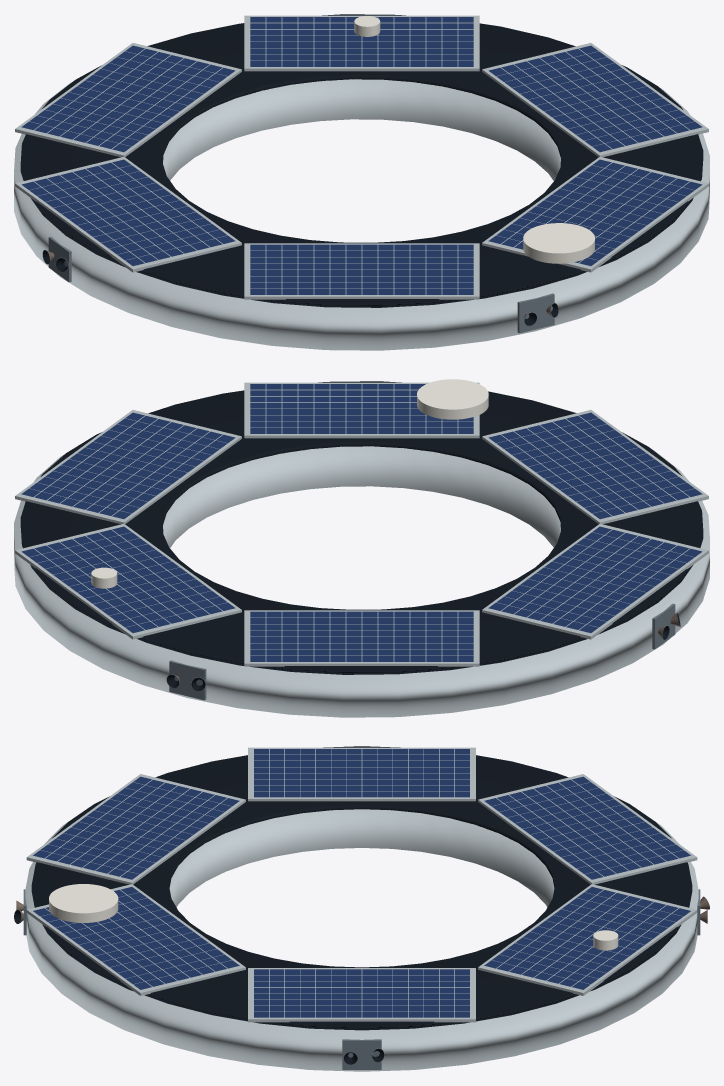
The model's file is mars_cruise_stage_msl.glb.
The picture shows the model from 3 angles, top to bottom: view 1: azimuth 30°, elevation 25°; view 2: azimuth 150°, elevation 25°; view 3: azimuth 270°, elevation 25°; orthographic projection. The views are drawn at different scales.
Visible parts, largest first — view 1: mars_cruise_stage.mesh_Satin_aluminum, mars_cruise_stage.mesh_Shadowed_interior, mars_cruise_stage.solar_panel_06.mesh_Indigo_solar_cells, mars_cruise_stage.solar_panel_05.mesh_Indigo_solar_cells, mars_cruise_stage.solar_panel_02.mesh_Indigo_solar_cells, mars_cruise_stage.solar_panel_04.mesh_Indigo_solar_cells, mars_cruise_stage.solar_panel_03.mesh_Indigo_solar_cells, mars_cruise_stage.solar_panel_01.mesh_Indigo_solar_cells, mars_cruise_stage.solar_panel_03.mesh_Satin_aluminum, mars_cruise_stage.solar_panel_06.mesh_Satin_aluminum, mars_cruise_stage.solar_panel_05.mesh_Satin_aluminum, mars_cruise_stage.solar_panel_02.mesh_Satin_aluminum (+5 smaller); view 2: mars_cruise_stage.mesh_Satin_aluminum, mars_cruise_stage.mesh_Shadowed_interior, mars_cruise_stage.solar_panel_04.mesh_Indigo_solar_cells, mars_cruise_stage.solar_panel_02.mesh_Indigo_solar_cells, mars_cruise_stage.solar_panel_05.mesh_Indigo_solar_cells, mars_cruise_stage.solar_panel_06.mesh_Indigo_solar_cells, mars_cruise_stage.solar_panel_03.mesh_Indigo_solar_cells, mars_cruise_stage.solar_panel_01.mesh_Indigo_solar_cells, mars_cruise_stage.solar_panel_04.mesh_Satin_aluminum, mars_cruise_stage.solar_panel_05.mesh_Satin_aluminum, mars_cruise_stage.solar_panel_02.mesh_Satin_aluminum, mars_cruise_stage.solar_panel_06.mesh_Satin_aluminum (+5 smaller); view 3: mars_cruise_stage.mesh_Satin_aluminum, mars_cruise_stage.mesh_Shadowed_interior, mars_cruise_stage.solar_panel_04.mesh_Indigo_solar_cells, mars_cruise_stage.solar_panel_06.mesh_Indigo_solar_cells, mars_cruise_stage.solar_panel_02.mesh_Indigo_solar_cells, mars_cruise_stage.solar_panel_05.mesh_Indigo_solar_cells, mars_cruise_stage.solar_panel_03.mesh_Indigo_solar_cells, mars_cruise_stage.solar_panel_01.mesh_Indigo_solar_cells, mars_cruise_stage.solar_panel_02.mesh_Satin_aluminum, mars_cruise_stage.solar_panel_05.mesh_Satin_aluminum, mars_cruise_stage.solar_panel_04.mesh_Satin_aluminum, mars_cruise_stage.solar_panel_06.mesh_Satin_aluminum (+4 smaller).
Part boxes in pixels (x1=…): mars_cruise_stage.mesh_Satin_aluminum: x1=14, y1=79, x2=709, y2=350; mars_cruise_stage.mesh_Shadowed_interior: x1=20, y1=14, x2=703, y2=307; mars_cruise_stage.solar_panel_06.mesh_Indigo_solar_cells: x1=250, y1=244, x2=473, y2=294; mars_cruise_stage.solar_panel_05.mesh_Indigo_solar_cells: x1=21, y1=159, x2=235, y2=265; mars_cruise_stage.solar_panel_02.mesh_Indigo_solar_cells: x1=488, y1=45, x2=702, y2=152; mars_cruise_stage.solar_panel_04.mesh_Indigo_solar_cells: x1=21, y1=45, x2=235, y2=152; mars_cruise_stage.solar_panel_03.mesh_Indigo_solar_cells: x1=250, y1=17, x2=473, y2=66; mars_cruise_stage.solar_panel_01.mesh_Indigo_solar_cells: x1=488, y1=159, x2=702, y2=265; mars_cruise_stage.solar_panel_03.mesh_Satin_aluminum: x1=244, y1=15, x2=479, y2=71; mars_cruise_stage.solar_panel_06.mesh_Satin_aluminum: x1=244, y1=243, x2=479, y2=299; mars_cruise_stage.solar_panel_05.mesh_Satin_aluminum: x1=15, y1=157, x2=241, y2=272; mars_cruise_stage.solar_panel_02.mesh_Satin_aluminum: x1=482, y1=43, x2=708, y2=157; mars_cruise_stage.mesh_Satin_aluminum: x1=14, y1=446, x2=709, y2=717; mars_cruise_stage.mesh_Shadowed_interior: x1=20, y1=381, x2=703, y2=674; mars_cruise_stage.solar_panel_04.mesh_Indigo_solar_cells: x1=250, y1=611, x2=473, y2=661; mars_cruise_stage.solar_panel_02.mesh_Indigo_solar_cells: x1=21, y1=412, x2=235, y2=519; mars_cruise_stage.solar_panel_05.mesh_Indigo_solar_cells: x1=488, y1=526, x2=702, y2=632; mars_cruise_stage.solar_panel_06.mesh_Indigo_solar_cells: x1=488, y1=412, x2=702, y2=519; mars_cruise_stage.solar_panel_03.mesh_Indigo_solar_cells: x1=21, y1=526, x2=235, y2=632; mars_cruise_stage.solar_panel_01.mesh_Indigo_solar_cells: x1=250, y1=384, x2=473, y2=433; mars_cruise_stage.solar_panel_04.mesh_Satin_aluminum: x1=244, y1=610, x2=479, y2=666; mars_cruise_stage.solar_panel_05.mesh_Satin_aluminum: x1=482, y1=524, x2=708, y2=639; mars_cruise_stage.solar_panel_02.mesh_Satin_aluminum: x1=15, y1=410, x2=241, y2=524; mars_cruise_stage.solar_panel_06.mesh_Satin_aluminum: x1=482, y1=410, x2=708, y2=524; mars_cruise_stage.mesh_Satin_aluminum: x1=25, y1=807, x2=698, y2=1071; mars_cruise_stage.mesh_Shadowed_interior: x1=31, y1=746, x2=692, y2=1030; mars_cruise_stage.solar_panel_04.mesh_Indigo_solar_cells: x1=484, y1=776, x2=690, y2=879; mars_cruise_stage.solar_panel_06.mesh_Indigo_solar_cells: x1=33, y1=776, x2=239, y2=879; mars_cruise_stage.solar_panel_02.mesh_Indigo_solar_cells: x1=254, y1=969, x2=469, y2=1017; mars_cruise_stage.solar_panel_05.mesh_Indigo_solar_cells: x1=254, y1=749, x2=469, y2=797; mars_cruise_stage.solar_panel_03.mesh_Indigo_solar_cells: x1=484, y1=887, x2=690, y2=989; mars_cruise_stage.solar_panel_01.mesh_Indigo_solar_cells: x1=33, y1=887, x2=239, y2=989; mars_cruise_stage.solar_panel_02.mesh_Satin_aluminum: x1=248, y1=968, x2=475, y2=1022; mars_cruise_stage.solar_panel_05.mesh_Satin_aluminum: x1=248, y1=747, x2=475, y2=801; mars_cruise_stage.solar_panel_04.mesh_Satin_aluminum: x1=478, y1=774, x2=697, y2=884; mars_cruise_stage.solar_panel_06.mesh_Satin_aluminum: x1=26, y1=774, x2=245, y2=884.
Size of the model in its own units: 4.4 by 0.39 by 4.4.
